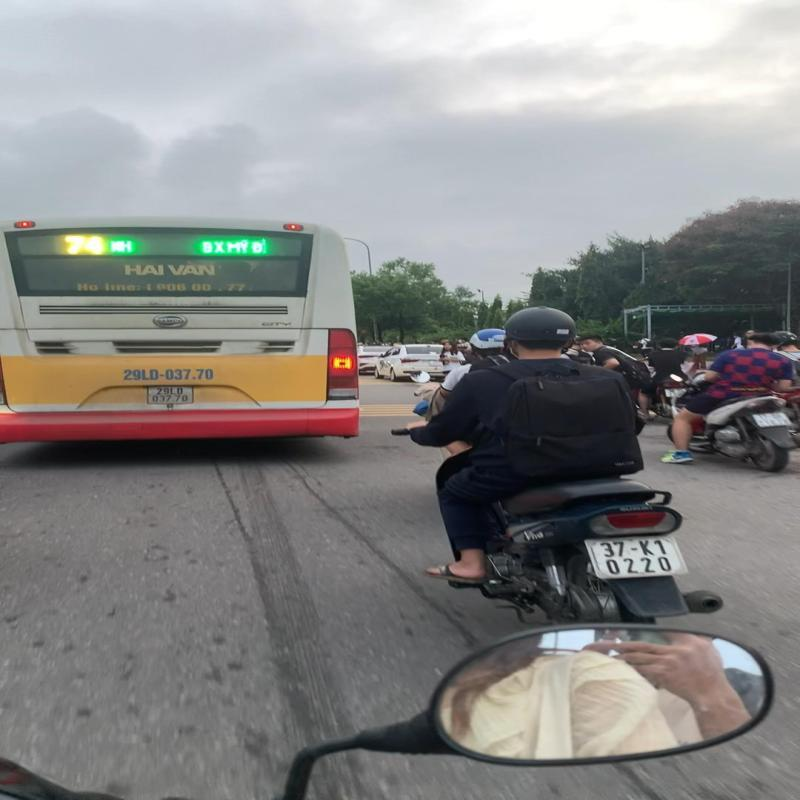helmet: (502, 302, 580, 352)
licenseplate: (578, 532, 694, 581)
motorcyclist: (386, 302, 730, 627)
